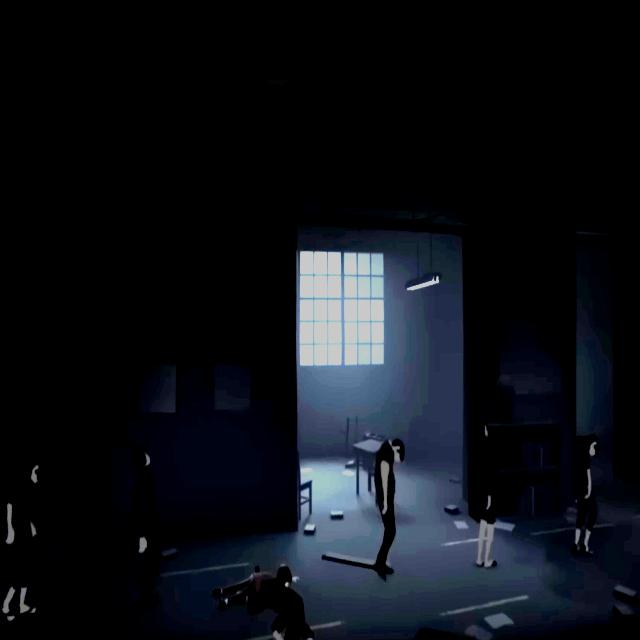boy: (212, 565, 299, 609)
zombie: (1, 454, 46, 622), (132, 447, 160, 607), (375, 438, 404, 582), (247, 578, 314, 640), (474, 419, 497, 568), (572, 435, 600, 554)
